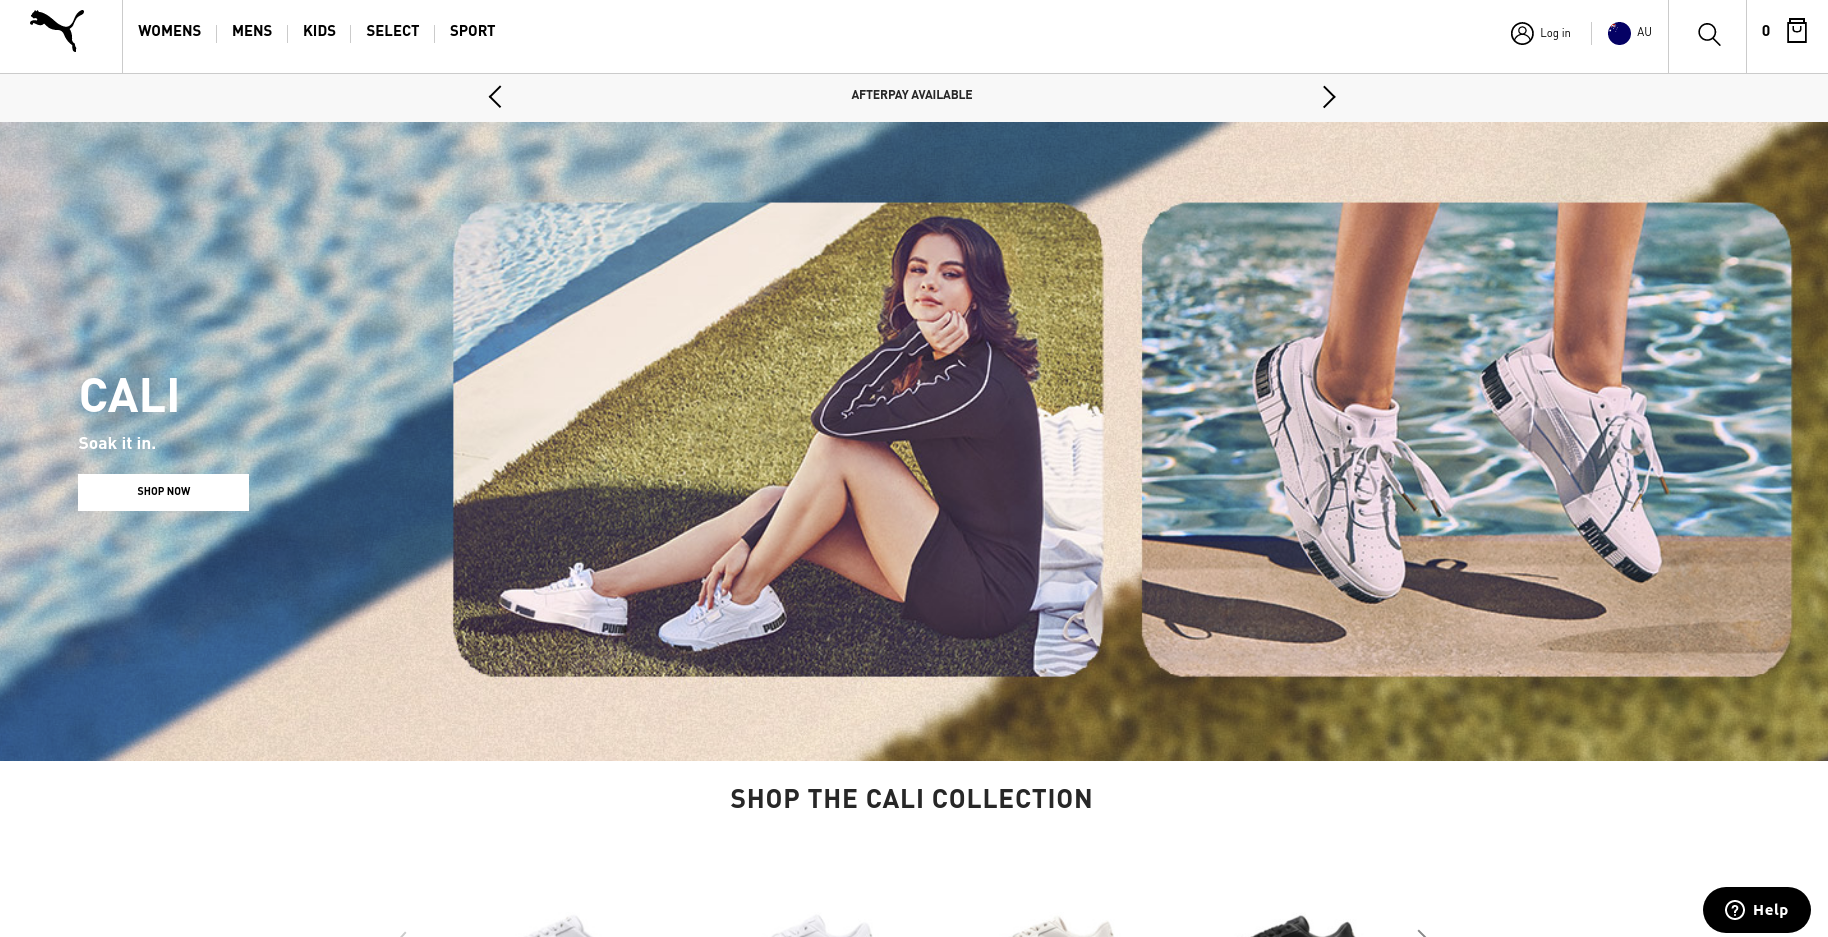Puma: (25, 10, 96, 53)
